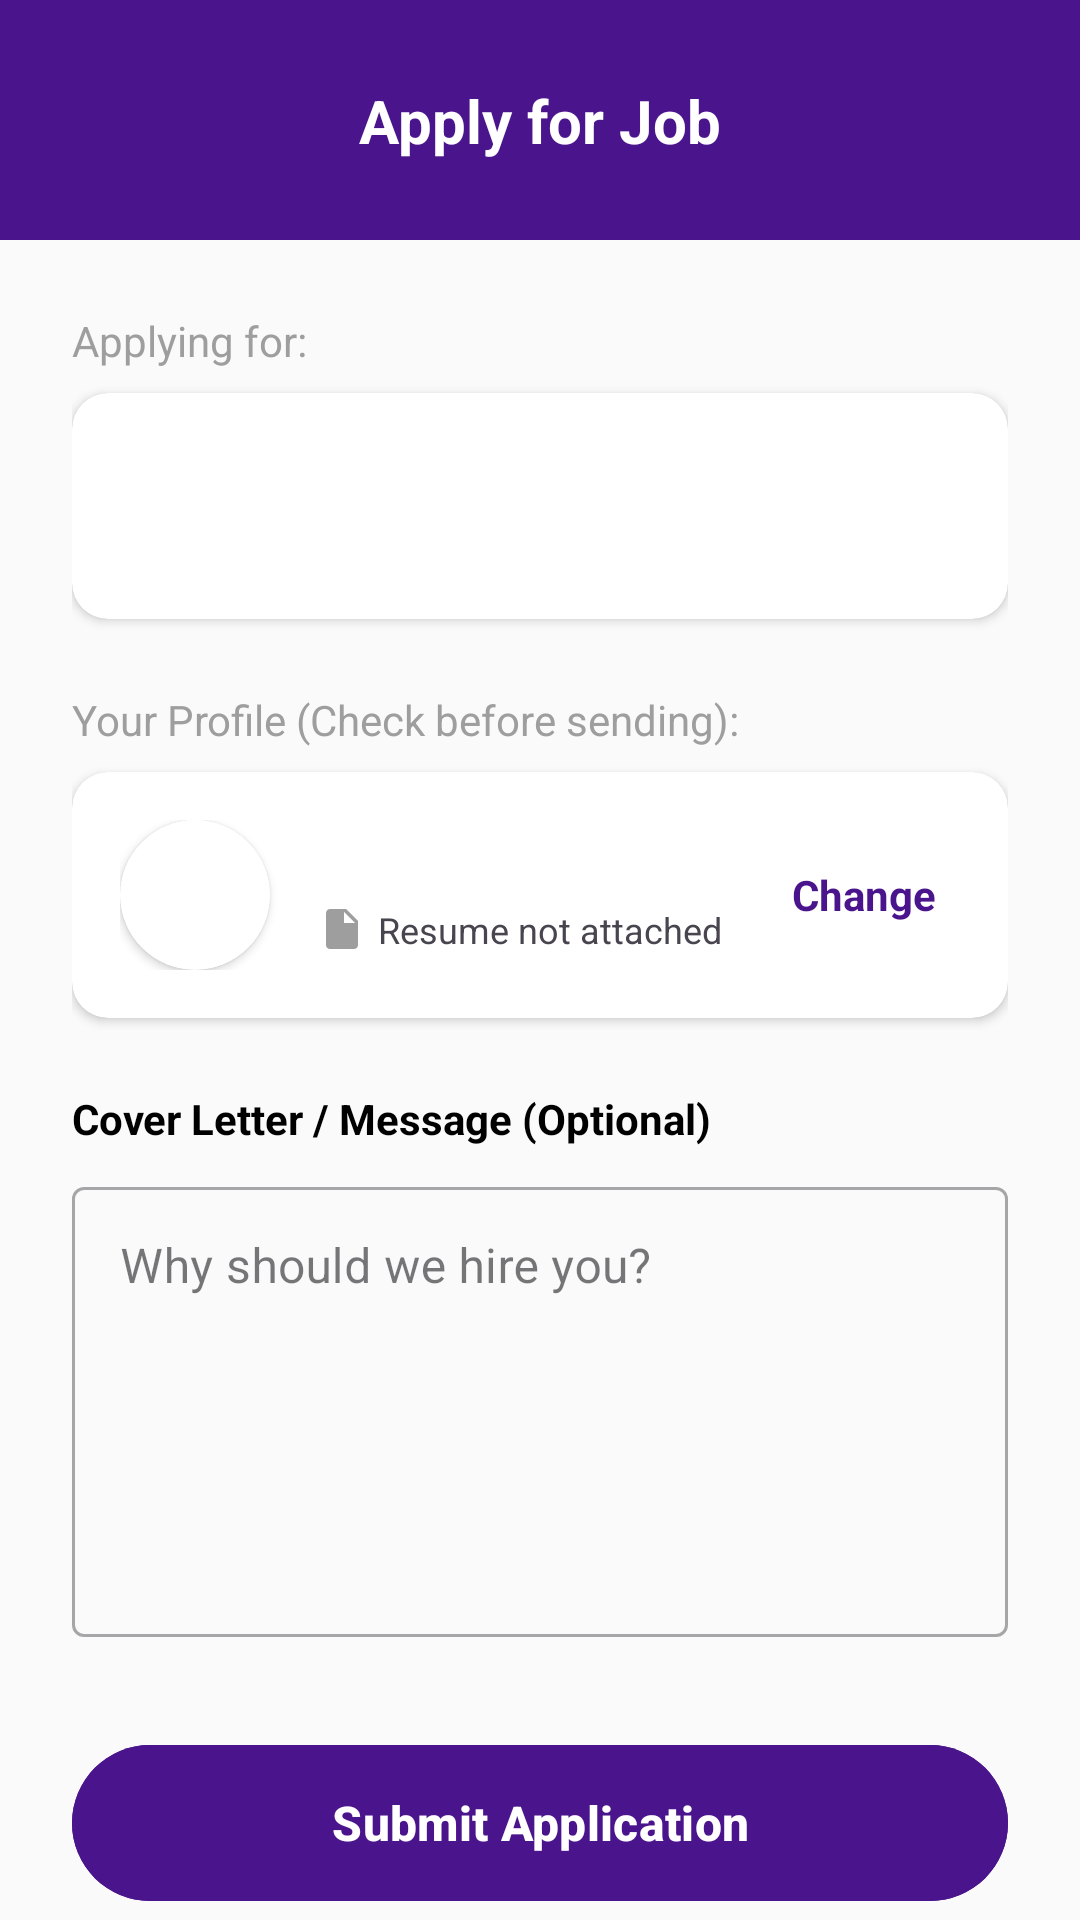

Named icons in this screenshot (1080×1920) and their bounding boxes, (x1, y1, x2, y2):
file: (326, 909, 358, 949)
